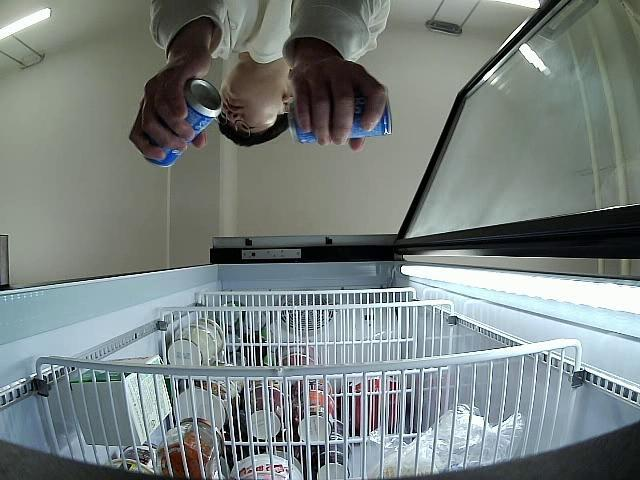15_letsbe: (142, 76, 222, 170), (286, 90, 394, 144)
